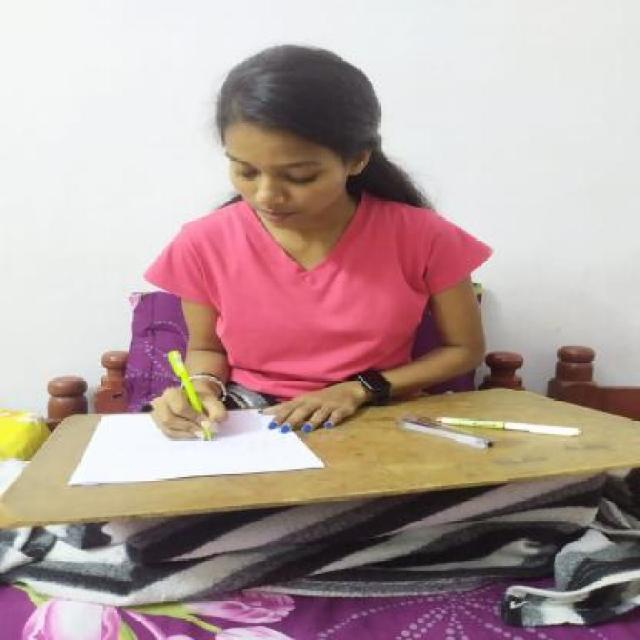good: (57, 25, 602, 494)
